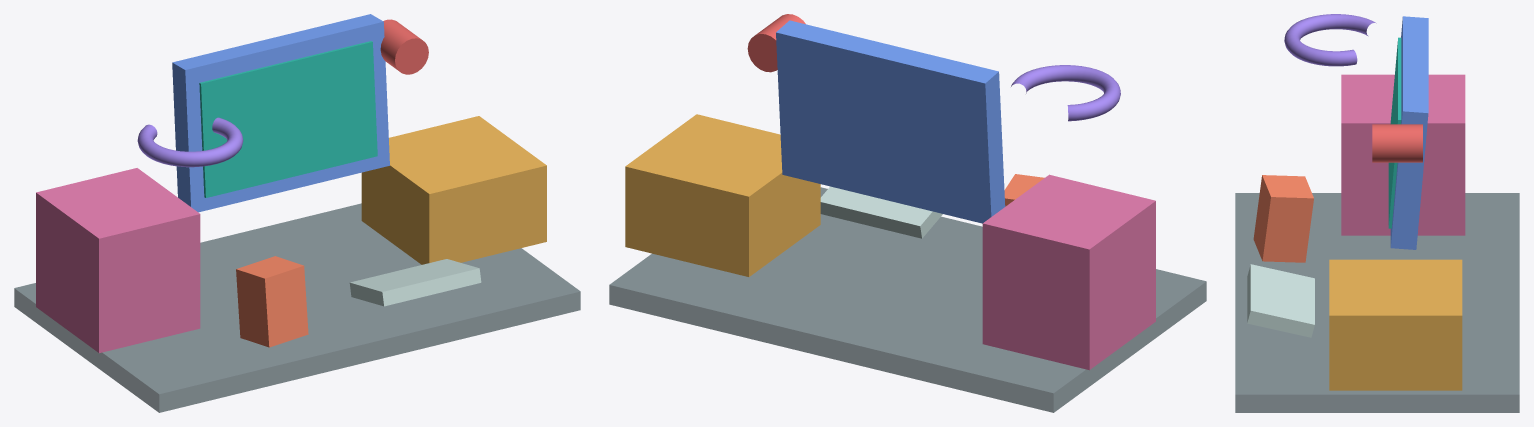
Rendered from orthographic-pilot.glb.
3 views of the same model, side by side, from view 1: azimuth 30°, elevation 25°; view 2: azimuth 150°, elevation 25°; view 3: azimuth 270°, elevation 25° (orthographic). The views are drawn at different scales.
Visible parts, largest first — view 1: Setup_Case, External_UPS, Ballot_Printer, ClearAccess_Software, Touchscreen_AIO, Barcode_Scanner, Accessible_Keypad, Assistive_Accessories, ESD_EMI_Controls; view 2: Setup_Case, Touchscreen_AIO, External_UPS, Ballot_Printer, Accessible_Keypad, Assistive_Accessories, ESD_EMI_Controls, Barcode_Scanner; view 3: Setup_Case, Ballot_Printer, External_UPS, Touchscreen_AIO, Barcode_Scanner, Accessible_Keypad, Assistive_Accessories, ESD_EMI_Controls, ClearAccess_Software.
Boxes of the visible parts, x1,y1,x2,y2 form: Setup_Case: [14, 203, 580, 412]; External_UPS: [36, 168, 200, 353]; Ballot_Printer: [361, 116, 546, 264]; ClearAccess_Software: [199, 41, 377, 197]; Touchscreen_AIO: [172, 14, 389, 212]; Barcode_Scanner: [236, 256, 308, 347]; Accessible_Keypad: [349, 259, 481, 306]; Assistive_Accessories: [137, 117, 243, 167]; ESD_EMI_Controls: [380, 19, 428, 74]; Setup_Case: [609, 187, 1206, 412]; Touchscreen_AIO: [776, 20, 1005, 223]; External_UPS: [982, 174, 1155, 370]; Ballot_Printer: [625, 114, 820, 276]; Accessible_Keypad: [820, 186, 942, 238]; Assistive_Accessories: [1011, 65, 1120, 121]; ESD_EMI_Controls: [747, 14, 805, 72]; Barcode_Scanner: [1004, 174, 1044, 206]; Setup_Case: [1235, 193, 1519, 412]; Ballot_Printer: [1329, 259, 1462, 390]; External_UPS: [1341, 74, 1465, 235]; Touchscreen_AIO: [1390, 16, 1428, 249]; Barcode_Scanner: [1253, 175, 1313, 262]; Accessible_Keypad: [1247, 264, 1314, 337]; Assistive_Accessories: [1284, 14, 1376, 66]; ESD_EMI_Controls: [1372, 124, 1422, 162]; ClearAccess_Software: [1388, 37, 1401, 228].
Bounding box in the file's own units: 5.45 × 2.98 × 3.1.
